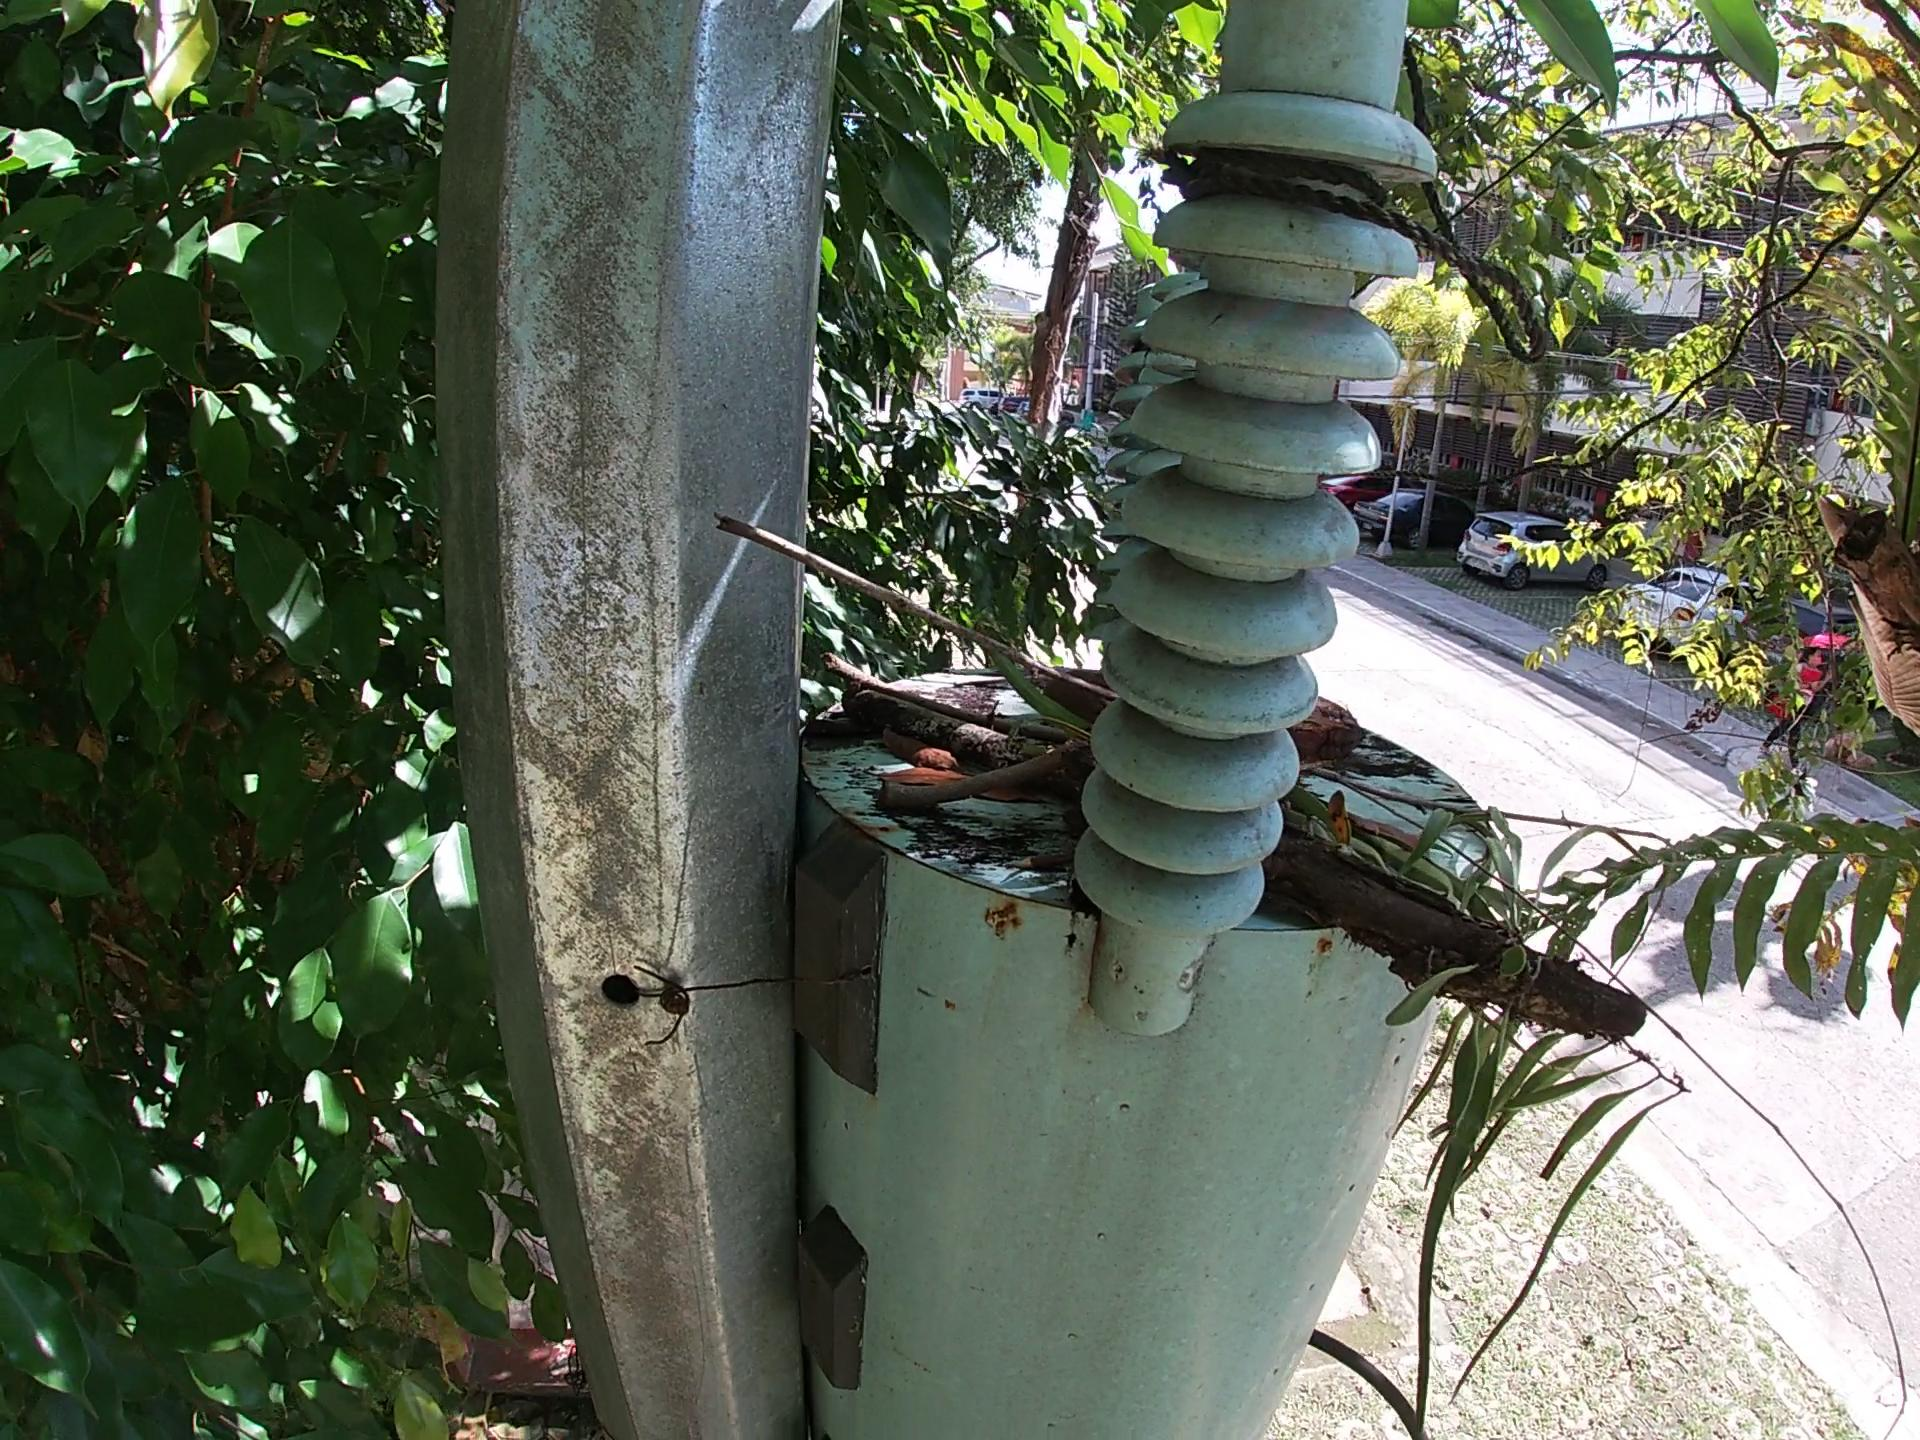branch with leaves: (883, 655, 1674, 1104)
leaf: (874, 740, 980, 833), (1305, 777, 1394, 873)
mahogany fruit: (748, 626, 872, 731)
tree branch: (751, 504, 1920, 1083), (736, 616, 1058, 735), (901, 755, 1241, 855)
